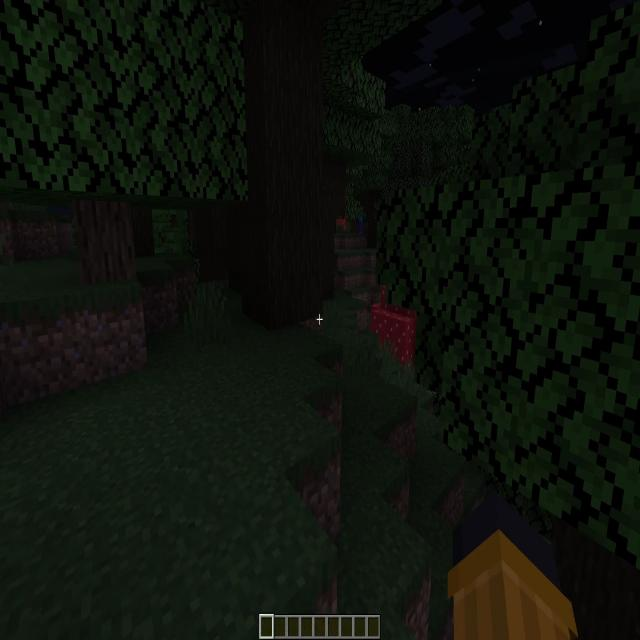Zombie: (358, 208, 366, 235)
